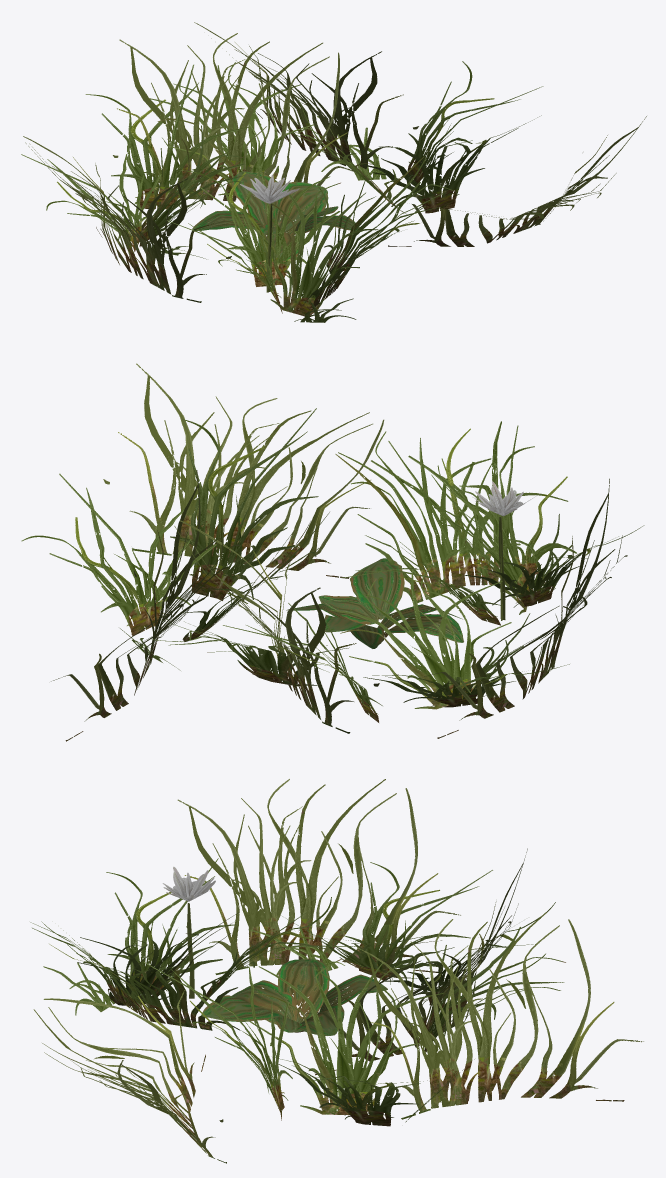
File: SM_Fol_Grass_Set3.fbx
The picture shows the model from 3 angles, top to bottom: view 1: azimuth 30°, elevation 25°; view 2: azimuth 150°, elevation 25°; view 3: azimuth 270°, elevation 25°; orthographic projection. The views are drawn at different scales.
Parts seen in each view (by area): view 1: SM_Fol_Grass_Set3; view 2: SM_Fol_Grass_Set3; view 3: SM_Fol_Grass_Set3.
Part boxes in pixels (bbox=[...]): SM_Fol_Grass_Set3: bbox=[21, 22, 646, 322]; SM_Fol_Grass_Set3: bbox=[21, 363, 644, 741]; SM_Fol_Grass_Set3: bbox=[30, 779, 643, 1163].
Size of the model in its own units: 111 by 108 by 31.61.
Materials: 1 (1 with a texture image).
